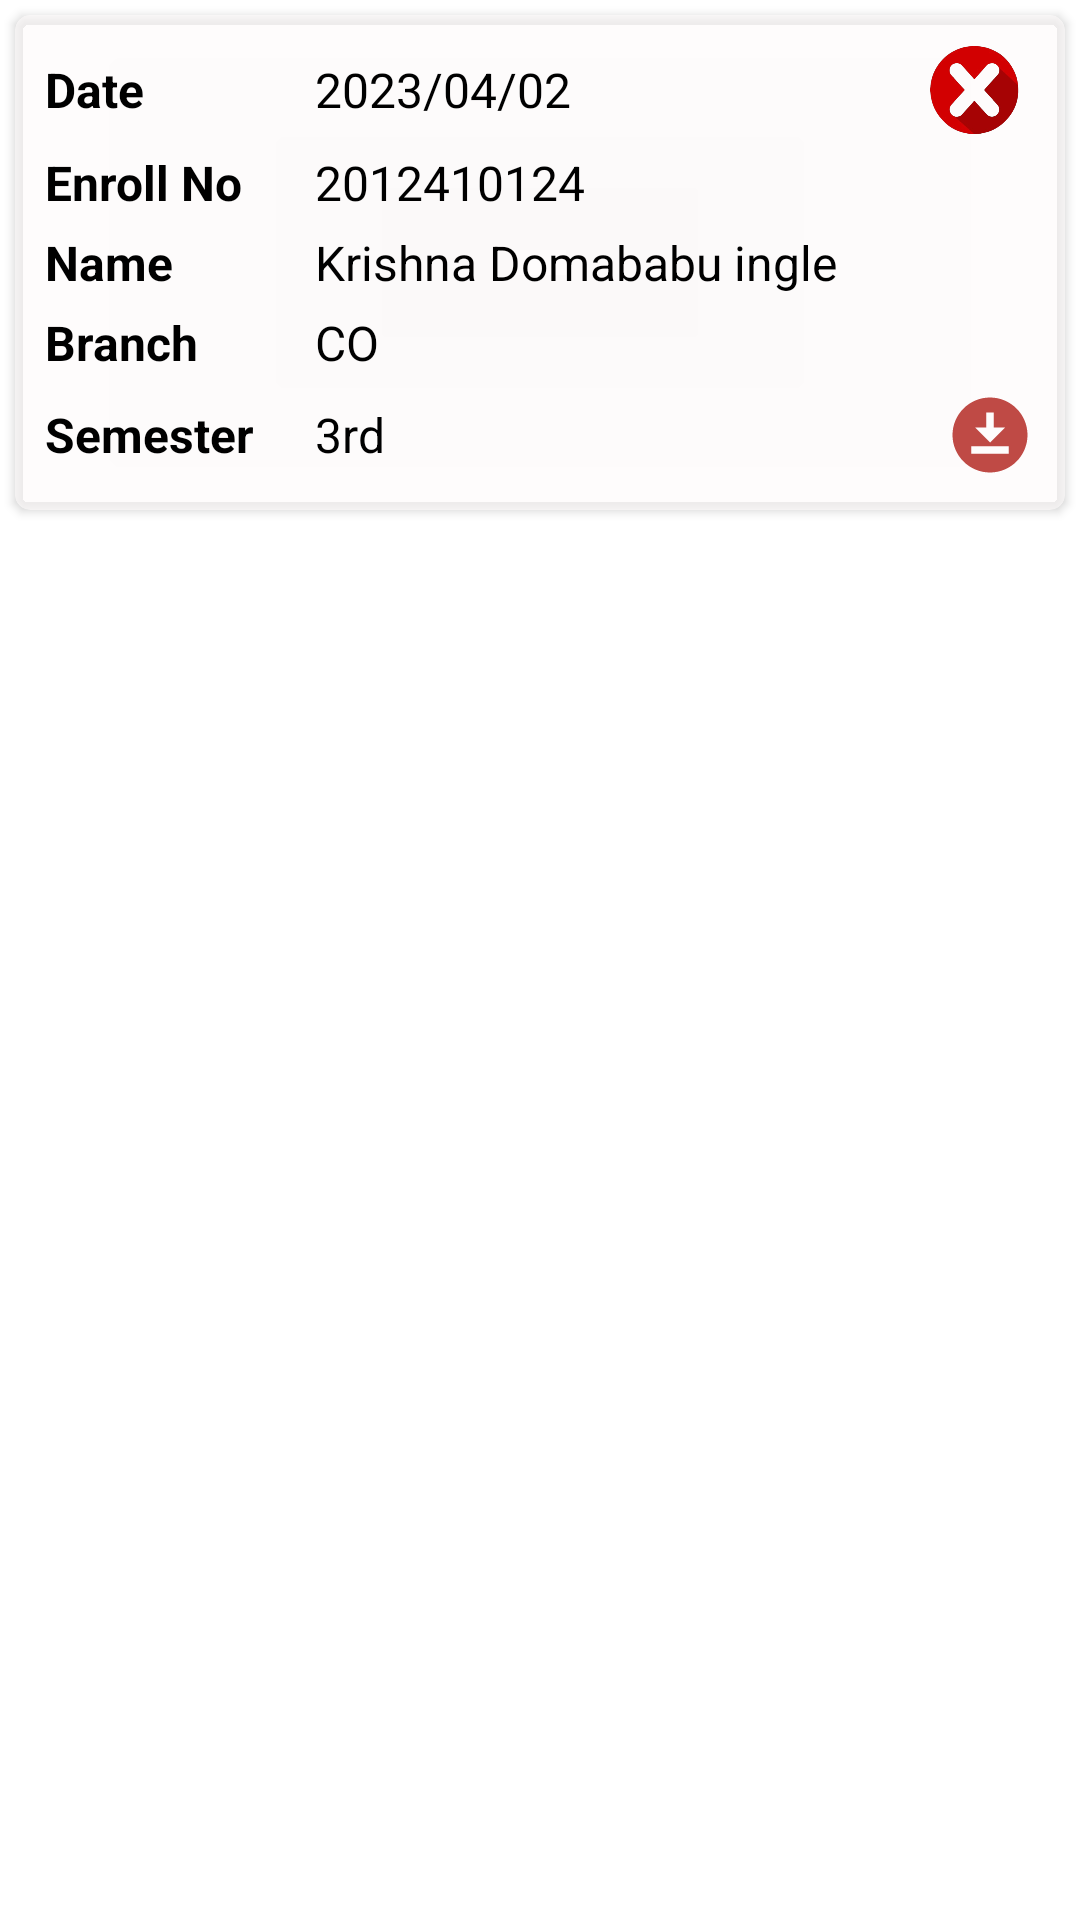

Where to tap for icons on this 1080 x 1920 app screen, as point (x, y):
download for offline: point (990, 435)
